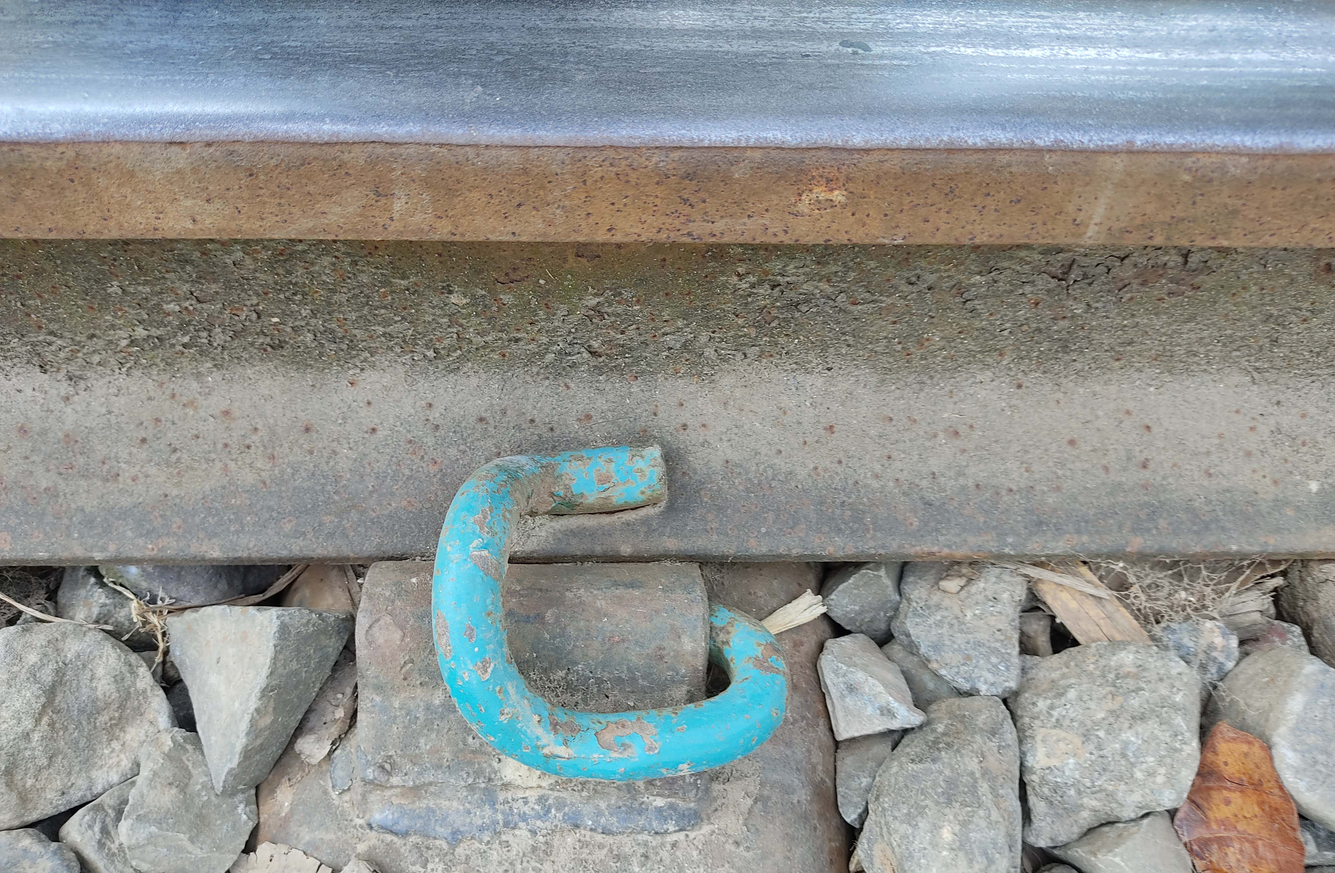Poor contact: (427, 419, 806, 766)
